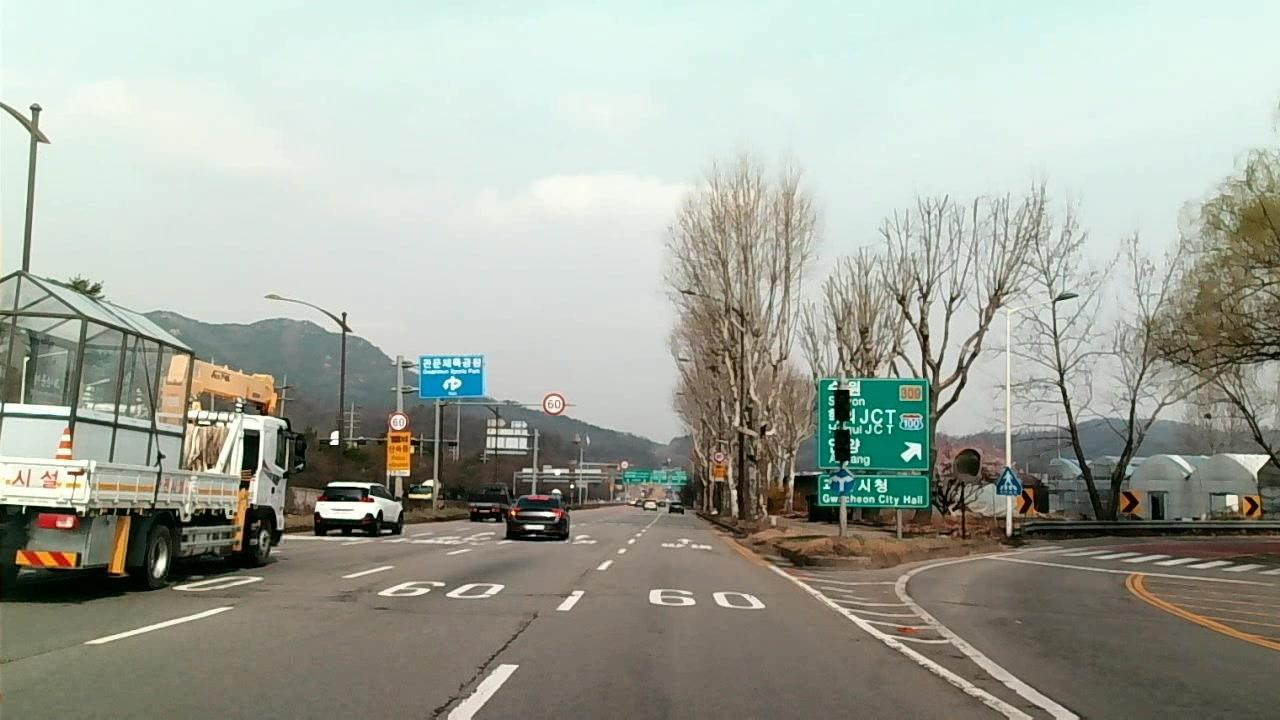stone: (894, 621, 921, 643)
vcrack: (432, 612, 537, 720)
